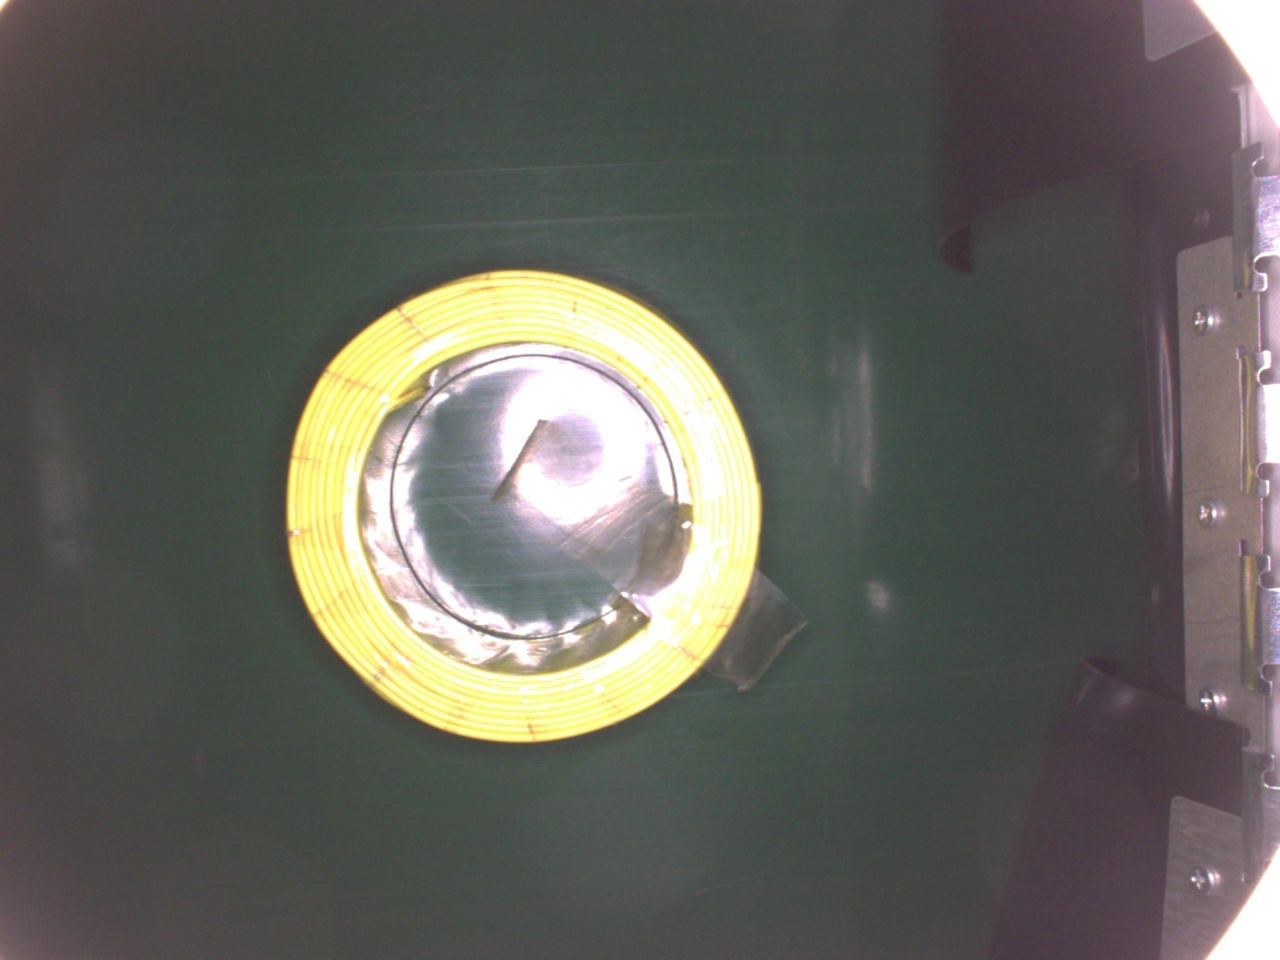yellow: (284, 265, 761, 742)
